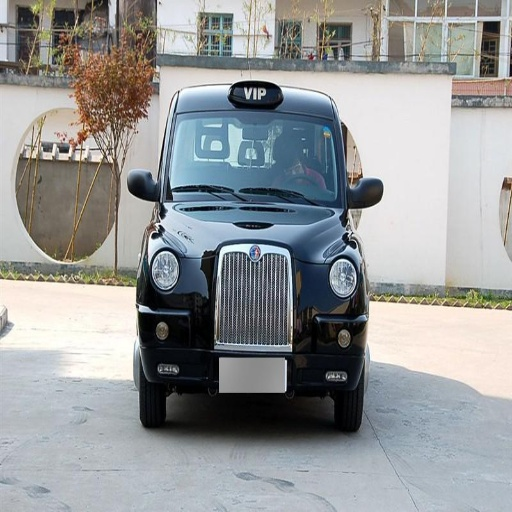front_bumper: (138, 254, 366, 393)
hood: (172, 204, 348, 275)
left_mirror: (349, 172, 384, 208)
